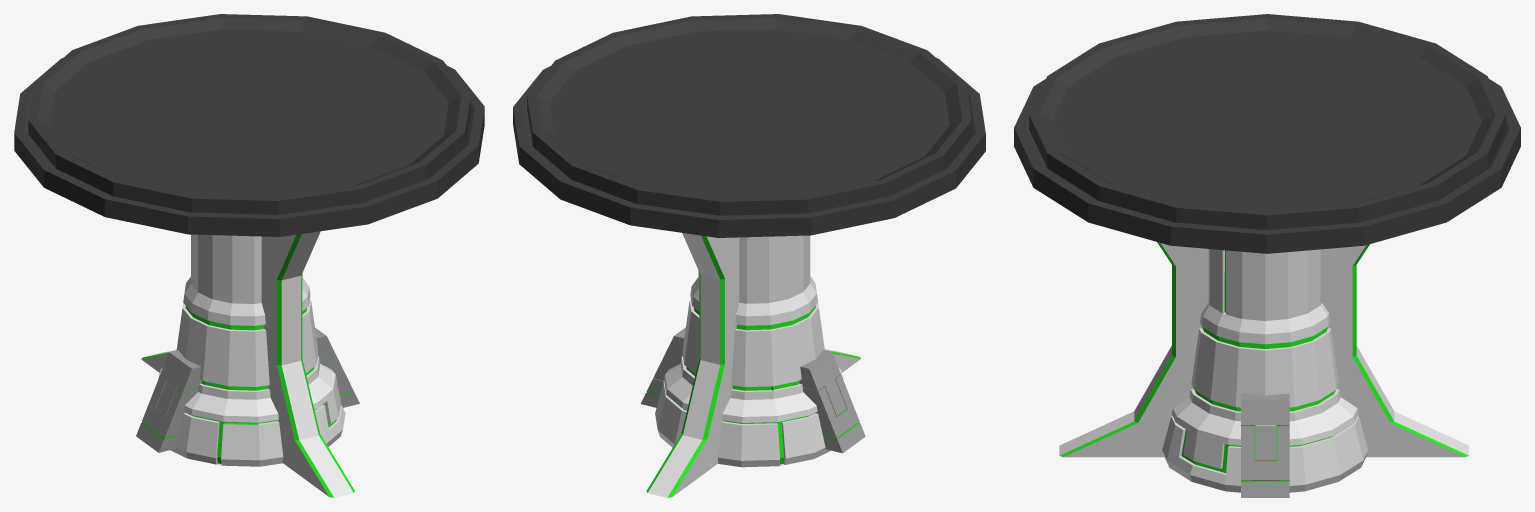
The model's file is platform.fbx.
3 views of the same model, side by side, from view 1: azimuth 30°, elevation 25°; view 2: azimuth 150°, elevation 25°; view 3: azimuth 270°, elevation 25° (orthographic). The views are drawn at different scales.
Parts seen in each view (by area): view 1: Cylinder.002; view 2: Cylinder.002; view 3: Cylinder.002.
Part boxes in pixels (box(x1,y1,x2,y2)): Cylinder.002: box(14, 14, 484, 497); Cylinder.002: box(513, 14, 985, 497); Cylinder.002: box(1014, 14, 1520, 497).
Bounding box in the file's own units: 4480 × 3298 × 4480.
